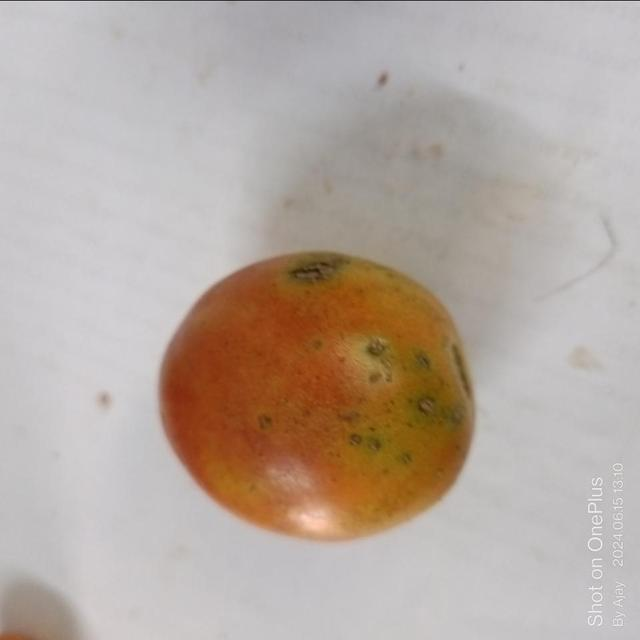Bacterial Spot Fruit: (10, 14, 284, 295)
